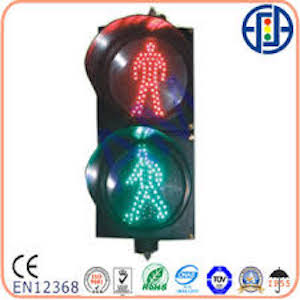green: (112, 140, 176, 227)
red: (122, 32, 175, 117)
